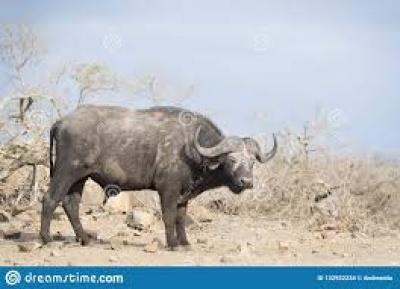buffalo: (39, 105, 279, 249)
